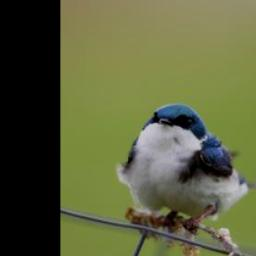Swallow: (114, 102, 256, 235)
